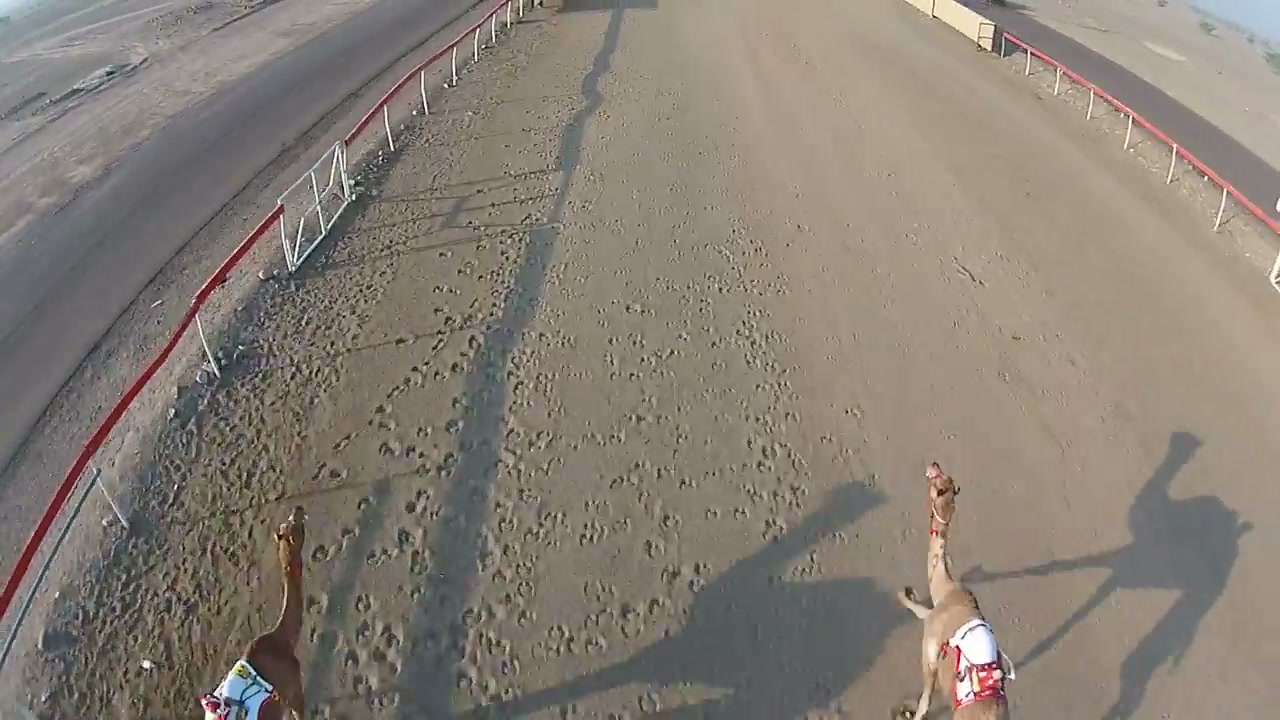animal_footprint: (308, 197, 549, 708)
